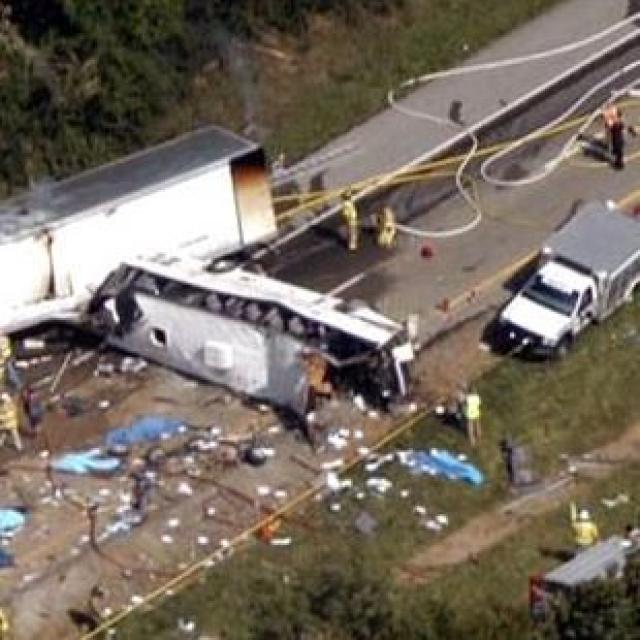traffic_incident: (91, 235, 423, 428)
